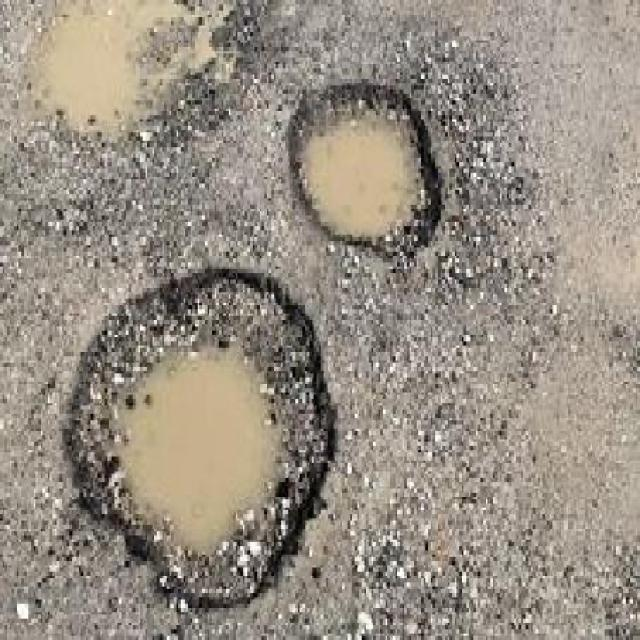jalan_berlubang: (54, 270, 340, 622), (279, 78, 456, 254)
